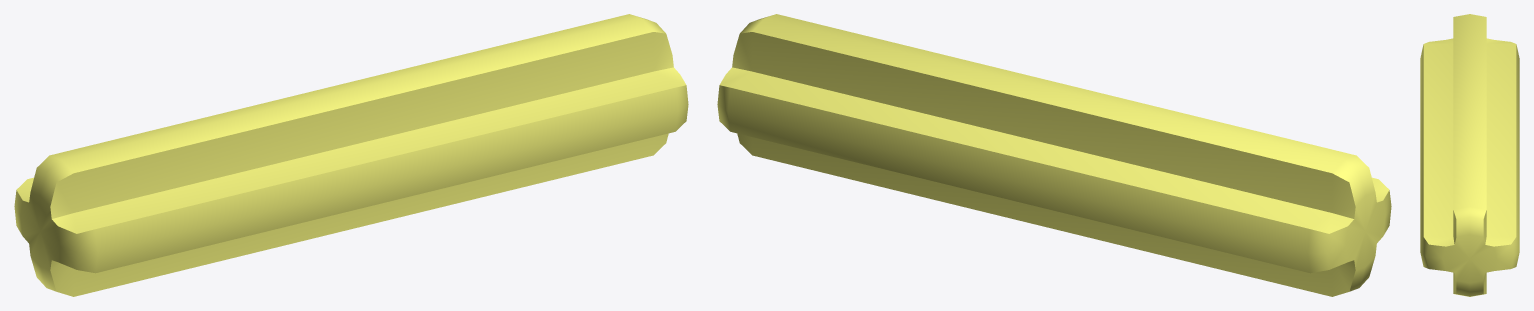
3 views of the same model, side by side, from view 1: azimuth 30°, elevation 25°; view 2: azimuth 150°, elevation 25°; view 3: azimuth 270°, elevation 25° (orthographic). The views are drawn at different scales.
Visible parts, largest first — view 1: 4519.dat; view 2: 4519.dat; view 3: 4519.dat.
Part boxes in pixels (x1=…): 4519.dat: x1=14, y1=14, x2=688, y2=296; 4519.dat: x1=717, y1=14, x2=1391, y2=296; 4519.dat: x1=1420, y1=14, x2=1519, y2=296.
Size of the model in its own units: 0.0236 by 0.0048 by 0.0048.
